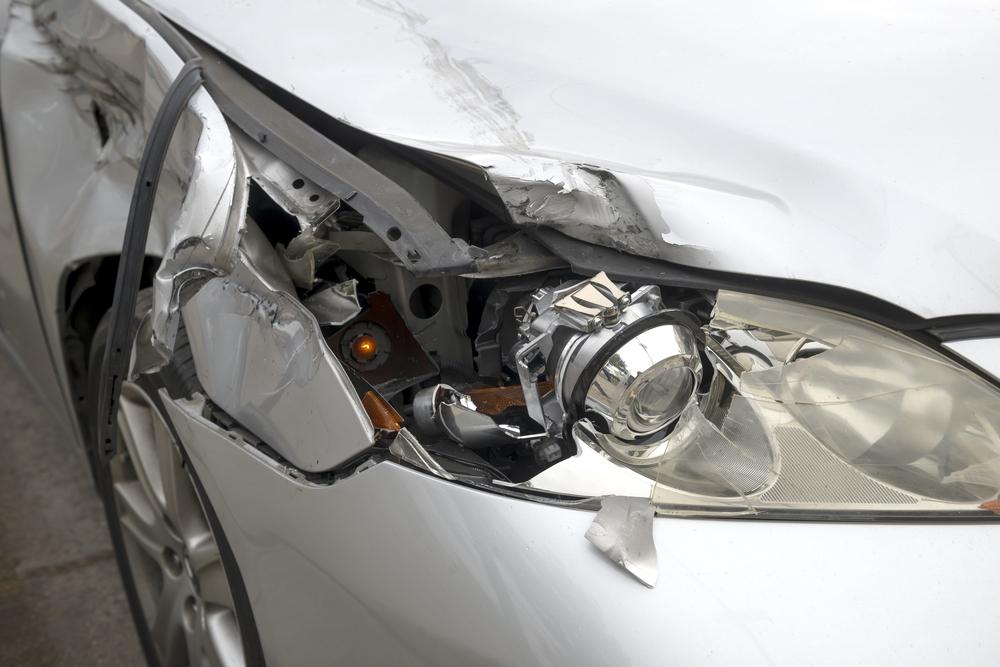dent: (363, 14, 837, 257), (1, 0, 144, 253), (192, 248, 311, 412)
lamp broken: (318, 266, 1000, 521)
